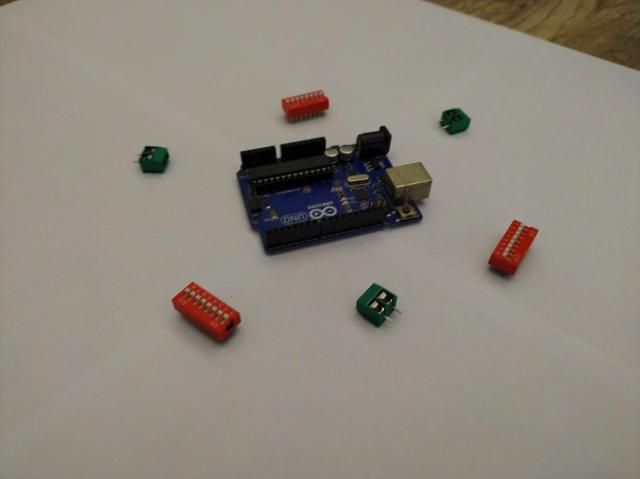arduino: (237, 126, 433, 256)
dip_switch: (172, 282, 240, 344), (488, 217, 538, 280), (282, 89, 328, 123)
terminal_block: (356, 280, 402, 328), (132, 143, 170, 173), (437, 108, 471, 136)
